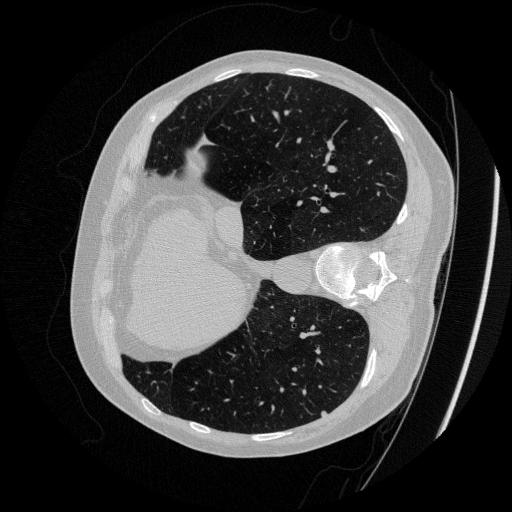nodule: (318, 406, 331, 419)
